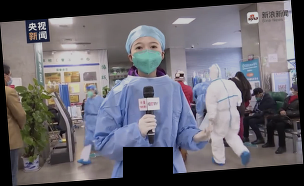with_mask: (130, 40, 164, 74), (6, 74, 14, 87), (87, 89, 96, 98), (289, 89, 298, 98), (255, 93, 264, 102)
